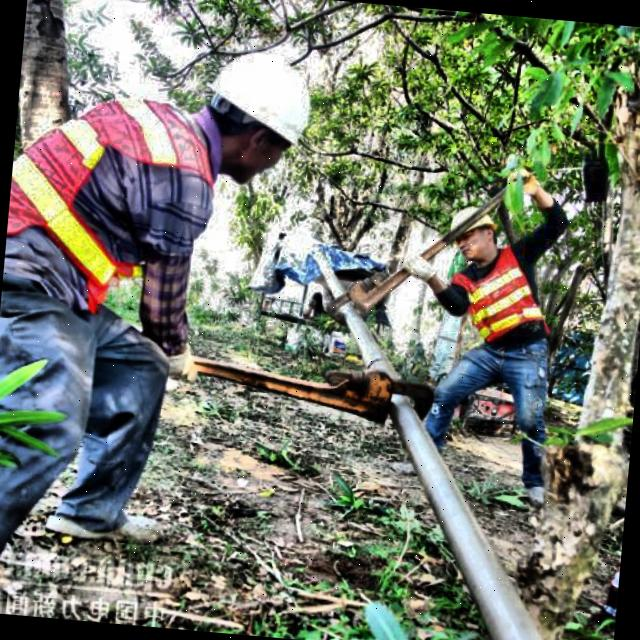helmet: (187, 42, 325, 193), (444, 192, 508, 268)
